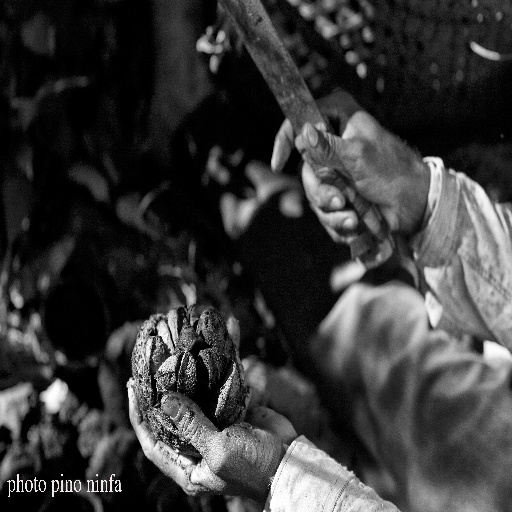hand: (127, 300, 265, 504), (270, 89, 416, 246)
